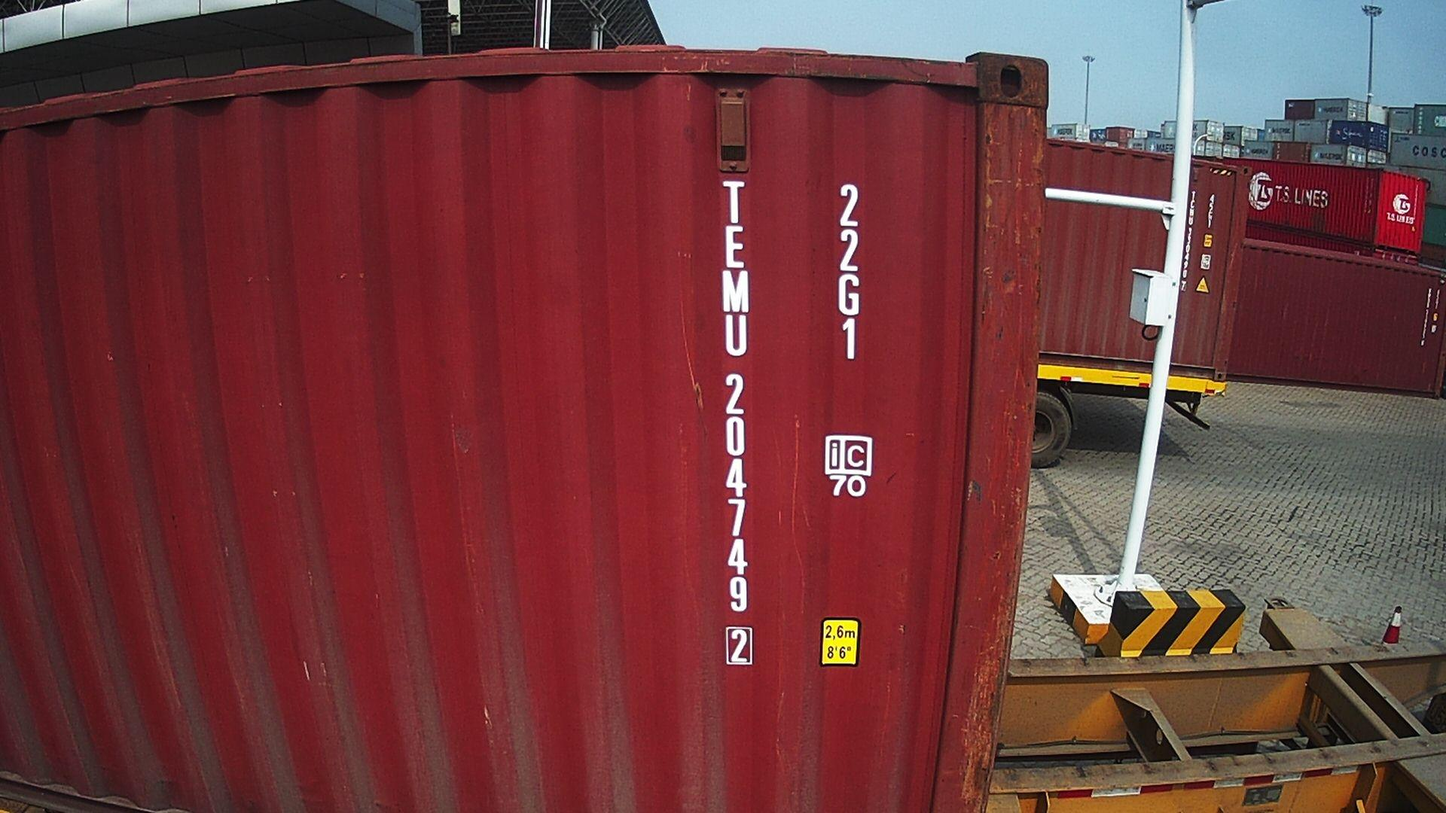container-numbers: (712, 175, 756, 670), (831, 180, 869, 366)
